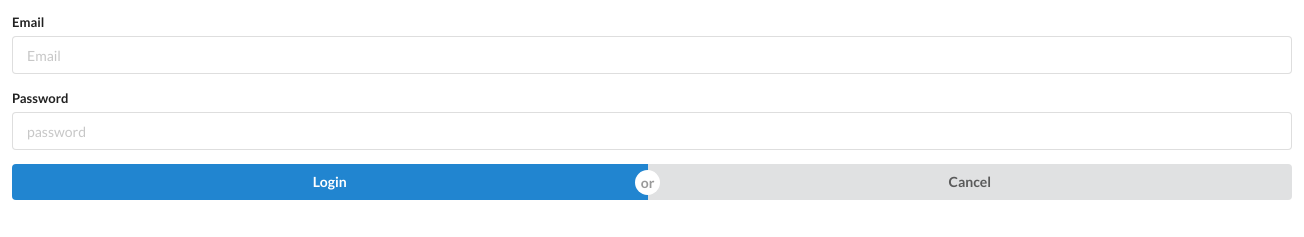
Test: should show error mesage
Type "not correct email" into the field labelled "Email" at (652, 55), box [12,36,1292,74]
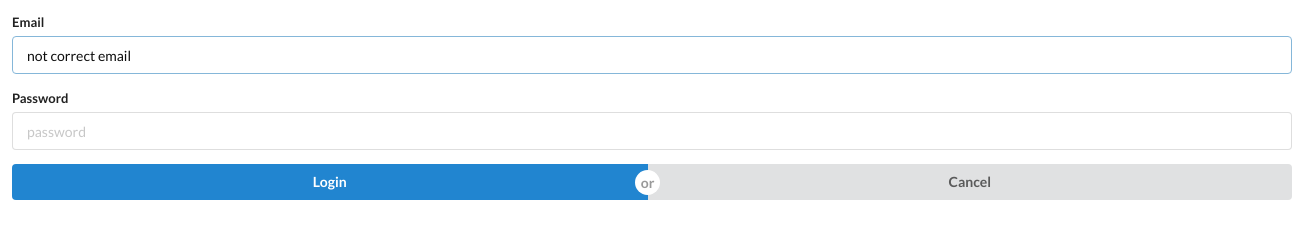
Type "secret" into the field labelled "Password" at (652, 131), box [12,112,1292,150]
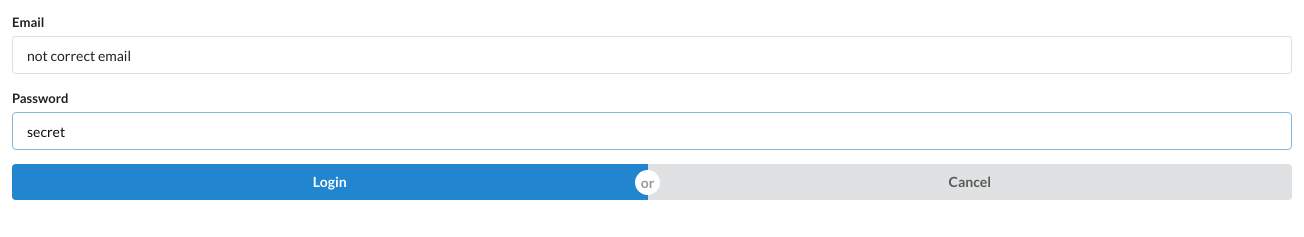
Click the button "Login" at (330, 182), box [12,164,648,200]
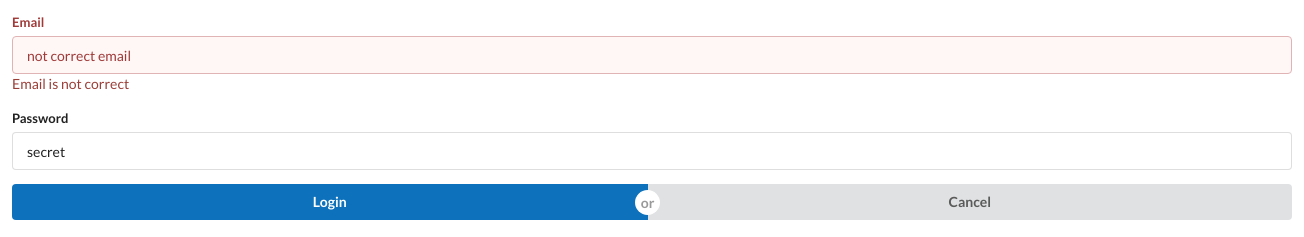
Now the message "Email is not correct" is not empty, box [12,75,129,92]
